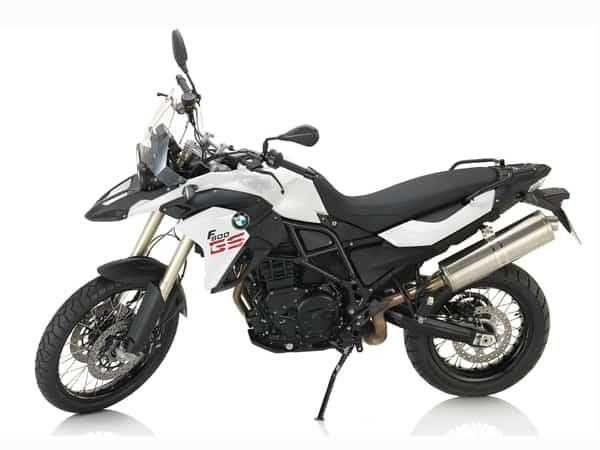motorcycle: (32, 26, 581, 417)
